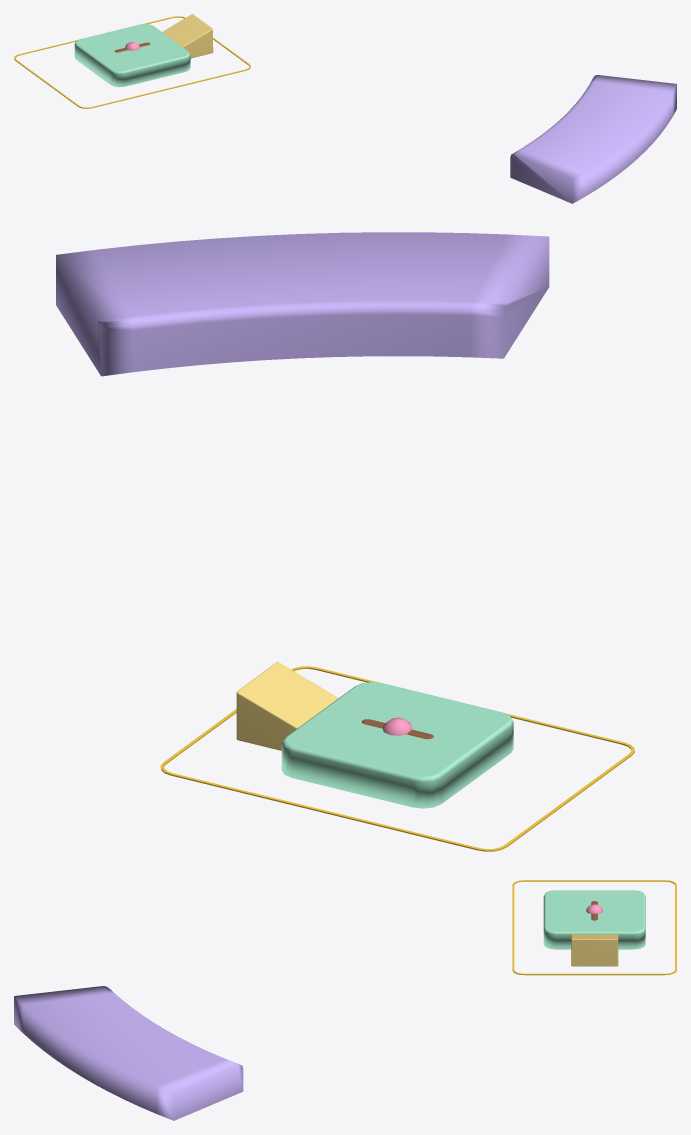
Rendered from IceKit.fbx.
3 views of the same model, one above another, from view 1: azimuth 30°, elevation 25°; view 2: azimuth 150°, elevation 25°; view 3: azimuth 270°, elevation 25° (orthographic). The views are drawn at different scales.
Visible parts, largest first — view 1: IK_RimSegment, IK_RoundPlateau, IK_SoftRamp, IK_PlotFrame; view 2: IK_RimSegment, IK_RoundPlateau, IK_SoftRamp, IK_PlotFrame; view 3: IK_RimSegment, IK_RoundPlateau, IK_SoftRamp, IK_PlotFrame.
Part boxes in pixels (x1=…): IK_RimSegment: x1=510, y1=75, x2=676, y2=203; IK_RoundPlateau: x1=74, y1=24, x2=190, y2=87; IK_SoftRamp: x1=162, y1=14, x2=213, y2=58; IK_PlotFrame: x1=14, y1=16, x2=250, y2=108; IK_RimSegment: x1=56, y1=232, x2=549, y2=376; IK_RoundPlateau: x1=281, y1=682, x2=513, y2=808; IK_SoftRamp: x1=236, y1=662, x2=338, y2=750; IK_PlotFrame: x1=160, y1=666, x2=634, y2=851; IK_RimSegment: x1=14, y1=986, x2=243, y2=1120; IK_RoundPlateau: x1=543, y1=890, x2=645, y2=949; IK_SoftRamp: x1=571, y1=934, x2=618, y2=966; IK_PlotFrame: x1=512, y1=880, x2=676, y2=975.
Bounding box in the file's own units: 147 × 11 × 169.
